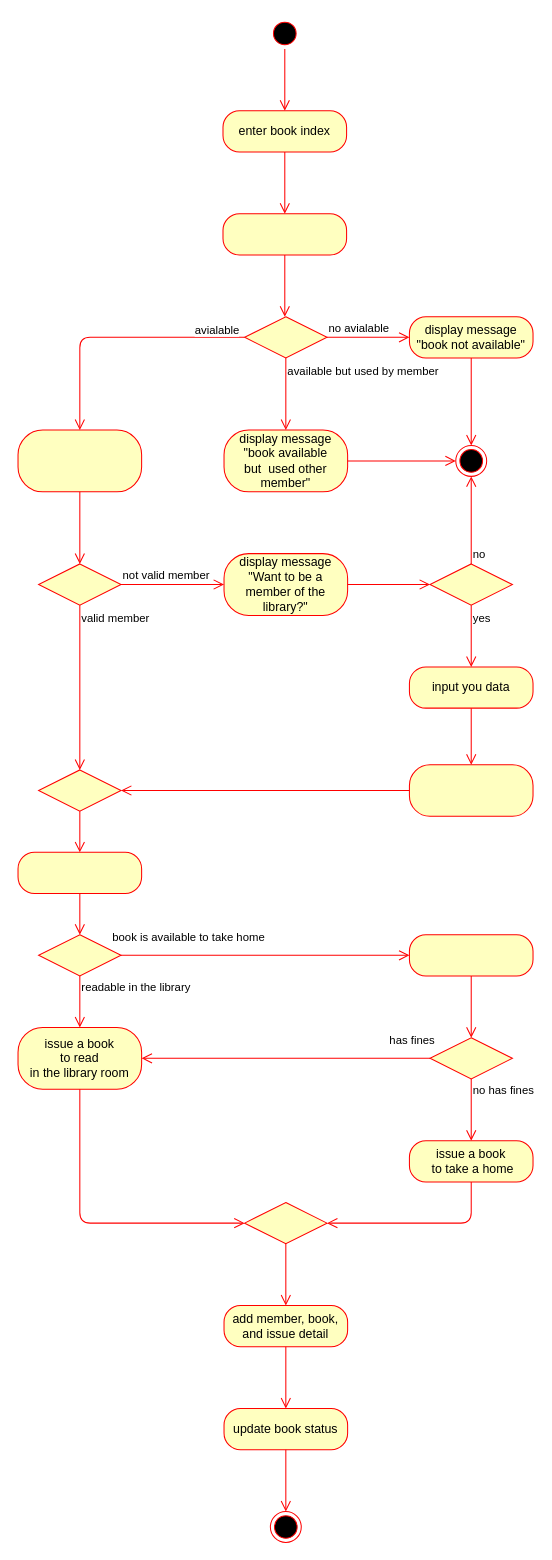
The diagram is 552 pixels wide and 1560 high, and some of its shapes have lost their labels. Each missing label, with the box of its shape:
chack availabilty of book: (222, 213, 347, 255)
check a member for fines: (408, 934, 533, 976)
check importance book: (17, 851, 142, 894)
check member enter you member code: (17, 429, 142, 492)
display message "thank you for registering": (408, 764, 533, 816)
